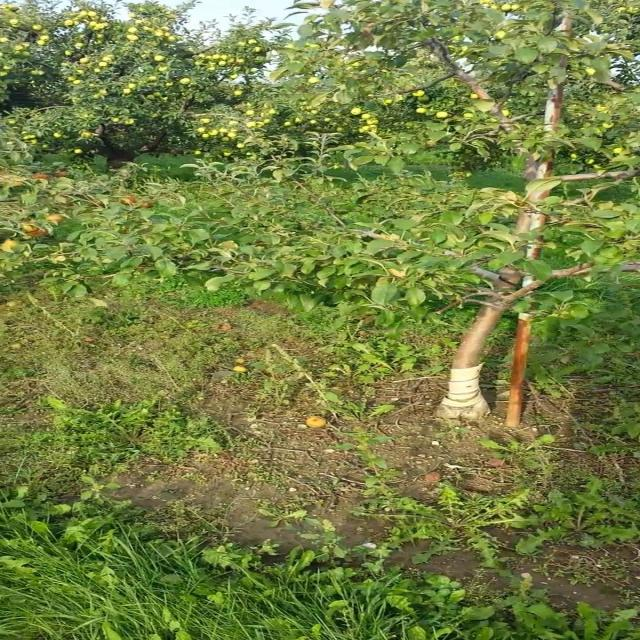apple: (28, 224, 48, 235), (28, 228, 48, 237), (120, 196, 135, 204), (49, 216, 64, 223), (56, 256, 69, 263), (6, 240, 16, 248), (56, 172, 71, 177), (35, 176, 50, 180), (141, 204, 155, 208)
